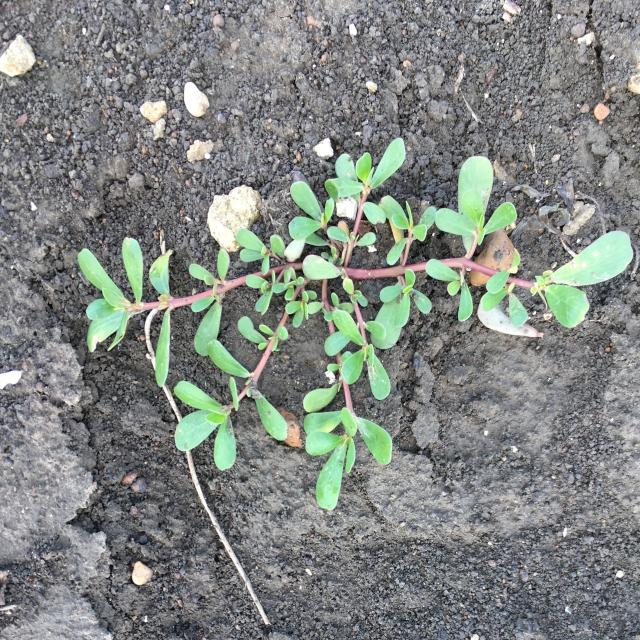Purslane: (78, 138, 634, 511)
